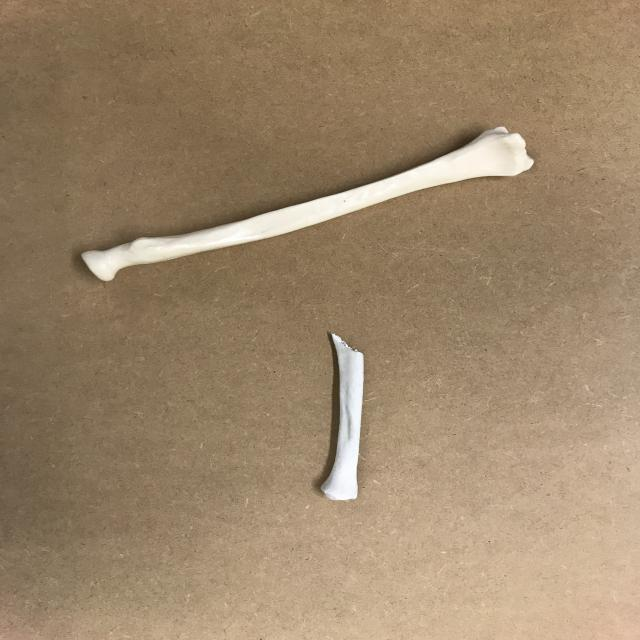bone: (76, 120, 544, 286), (313, 326, 373, 510)
